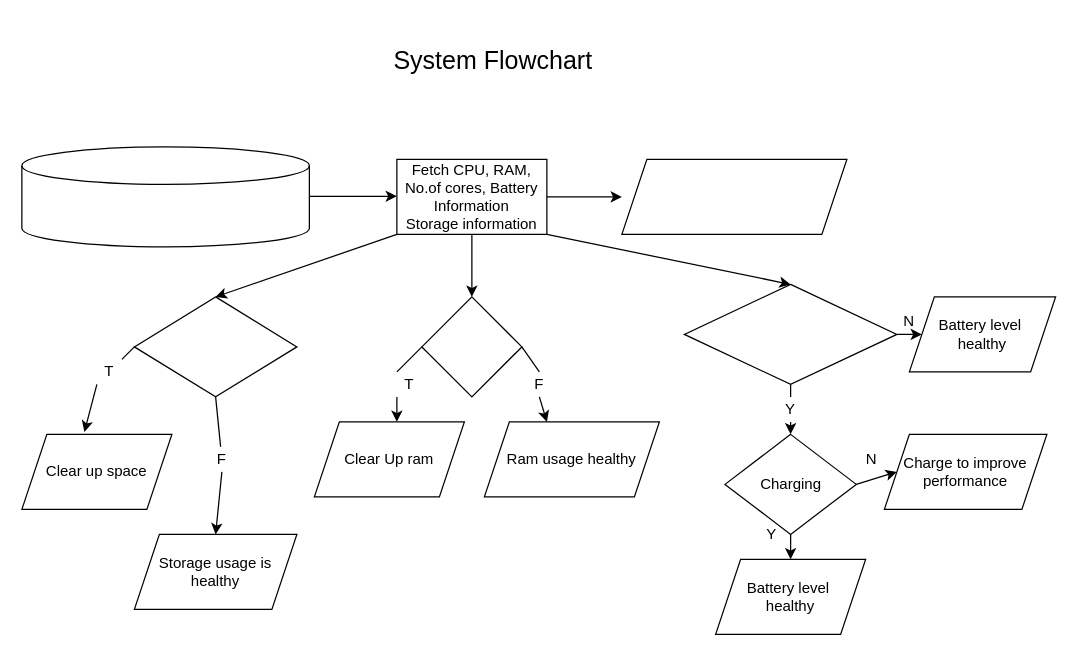
The diagram is 1078 pixels wide and 656 high, and some of its shapes have lost their labels. The centre of each missing label's shape, as x and y in pixels:
"Battery level < 20%" belongs at point (790, 333).
"Computer hard drive" belongs at point (165, 196).
"Free ram < 0.5GB" belongs at point (471, 346).
"No. of cores, CPU, RAM information and Battery information" belongs at point (734, 196).
"Storage remaining < 0.5 GB" belongs at point (215, 346).
